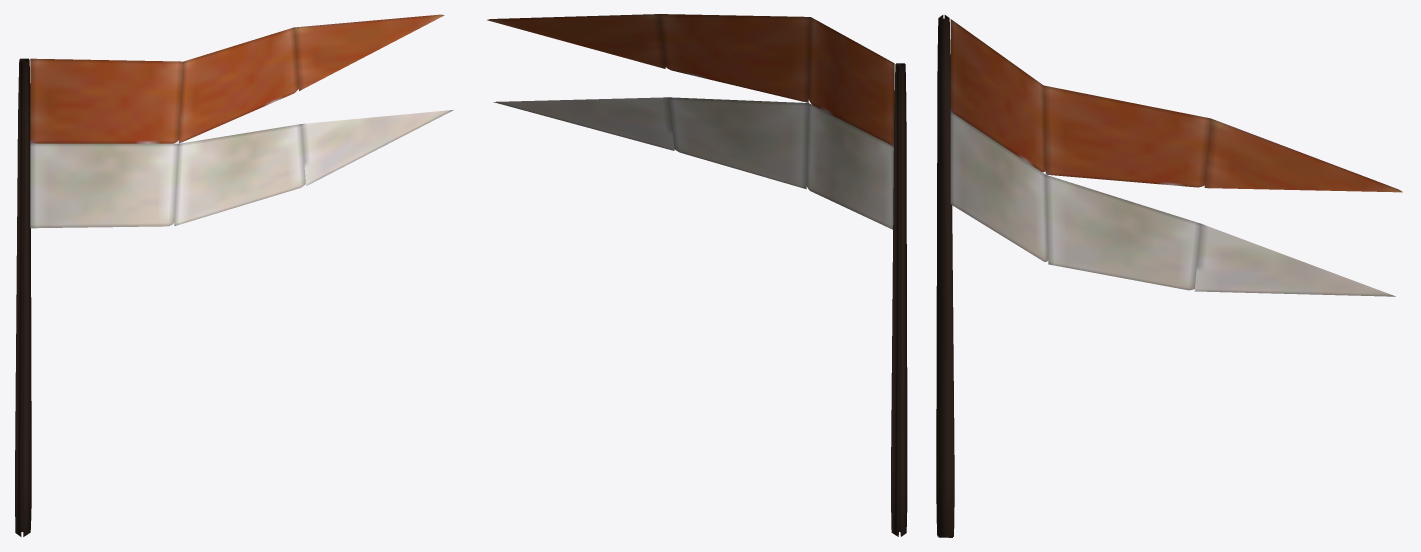
3 renders of one model, left to right at view 1: azimuth 30°, elevation 25°; view 2: azimuth 150°, elevation 25°; view 3: azimuth 330°, elevation 25°, orthographic. The views are drawn at different scales.
Visible parts, largest first — view 1: T1L3M000_18; view 2: T1L3M000_18; view 3: T1L3M000_18.
Boxes of the visible parts, x1=… form: T1L3M000_18: x1=15, y1=14, x2=453, y2=536; T1L3M000_18: x1=487, y1=14, x2=907, y2=536; T1L3M000_18: x1=936, y1=15, x2=1402, y2=537.
Bounding box in the file's own units: 1.73 × 1.83 × 0.2752.
